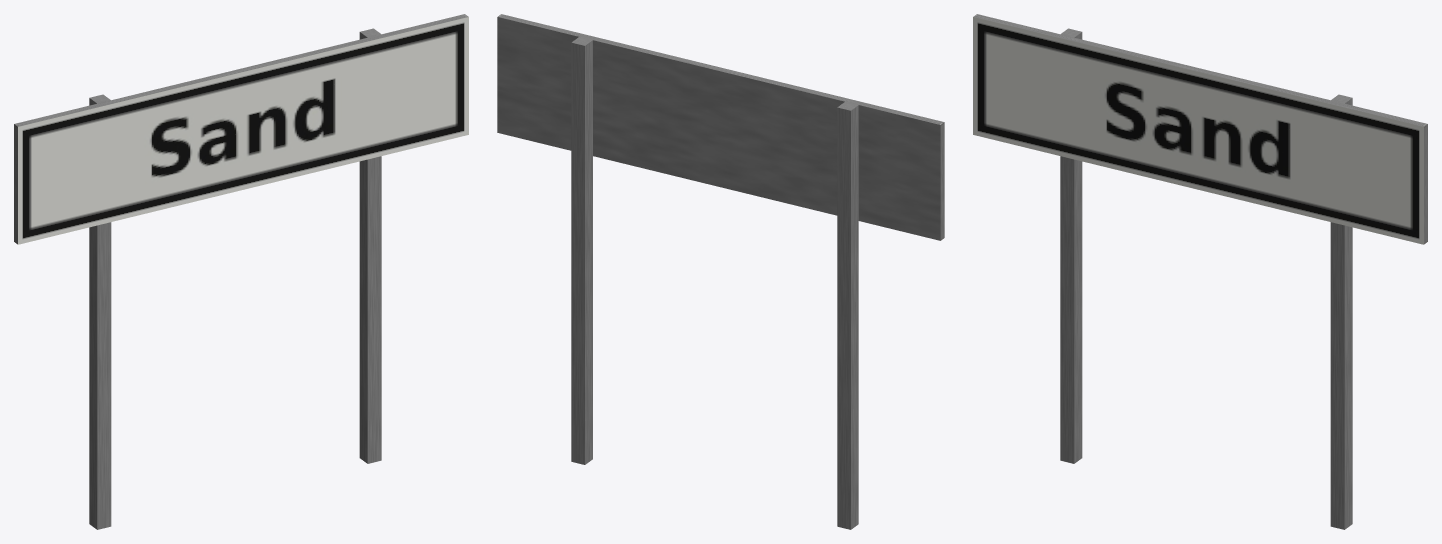
Rendered from SM_sign_place_02.fbx.
3 views of the same model, side by side, from view 1: azimuth 30°, elevation 25°; view 2: azimuth 150°, elevation 25°; view 3: azimuth 330°, elevation 25° (orthographic).
Visible parts, largest first — view 1: SM_sign_place_02; view 2: SM_sign_place_02; view 3: SM_sign_place_02.
Part boxes in pixels (x1=…): SM_sign_place_02: x1=14, y1=14, x2=468, y2=529; SM_sign_place_02: x1=497, y1=14, x2=944, y2=529; SM_sign_place_02: x1=973, y1=14, x2=1427, y2=529.
Size of the model in its own units: 2.6 by 2.35 by 0.12.
